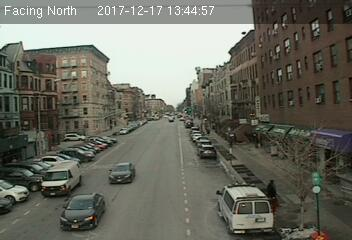car: (59, 194, 107, 229), (108, 162, 137, 185), (198, 145, 218, 159)
police: (215, 181, 275, 236)
truck: (41, 159, 83, 197)
